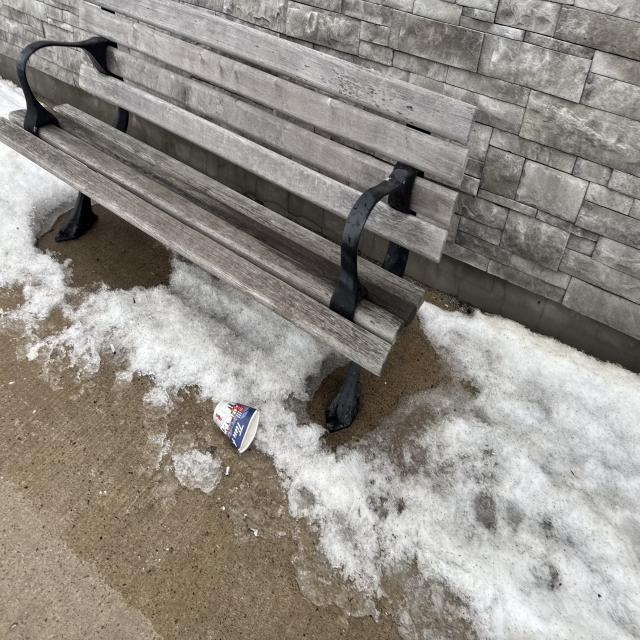Bench: (2, 3, 474, 408)
